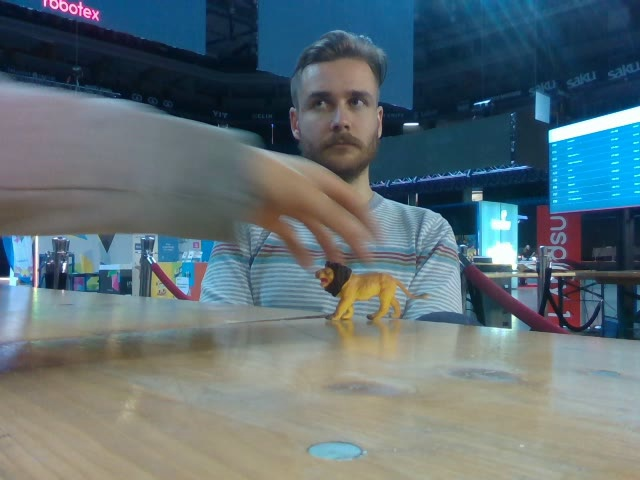toy: (315, 259, 428, 320)
